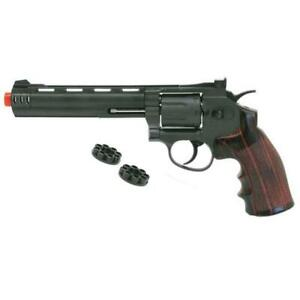Arma Falsa: (2, 79, 300, 214)
